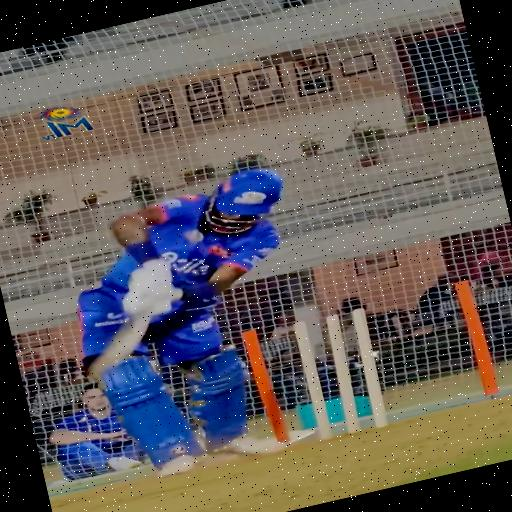Cricket bat: (91, 314, 149, 380)
